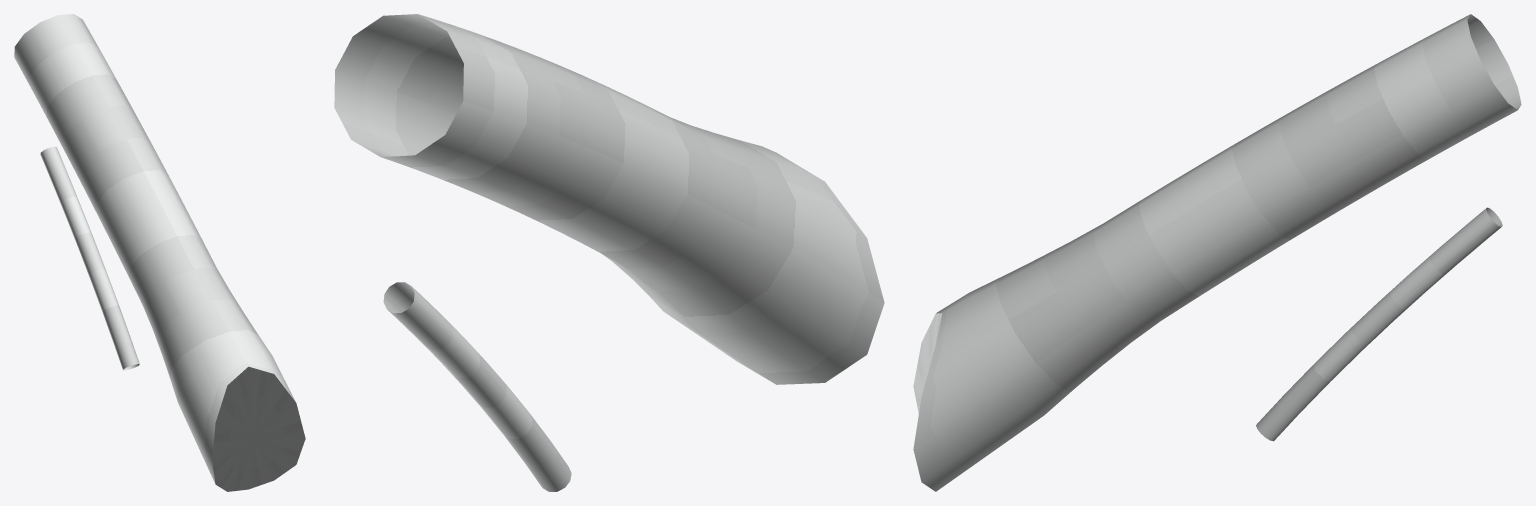
Rendered from luminairearm_laupsweep12ft_c0_thin.obj.
3 views of the same model, side by side, from view 1: azimuth 30°, elevation 25°; view 2: azimuth 150°, elevation 25°; view 3: azimuth 270°, elevation 25° (orthographic). The views are drawn at different scales.
Parts seen in each view (by area): view 1: luminairearm_laupsweep12ft_c0_thin; view 2: luminairearm_laupsweep12ft_c0_thin; view 3: luminairearm_laupsweep12ft_c0_thin.
Boxes of the visible parts, bbox=[...] form: luminairearm_laupsweep12ft_c0_thin: bbox=[14, 14, 305, 491]; luminairearm_laupsweep12ft_c0_thin: bbox=[334, 14, 884, 491]; luminairearm_laupsweep12ft_c0_thin: bbox=[913, 14, 1521, 491].
Bounding box in the file's own units: 0.3375 × 1.16 × 1.38.
